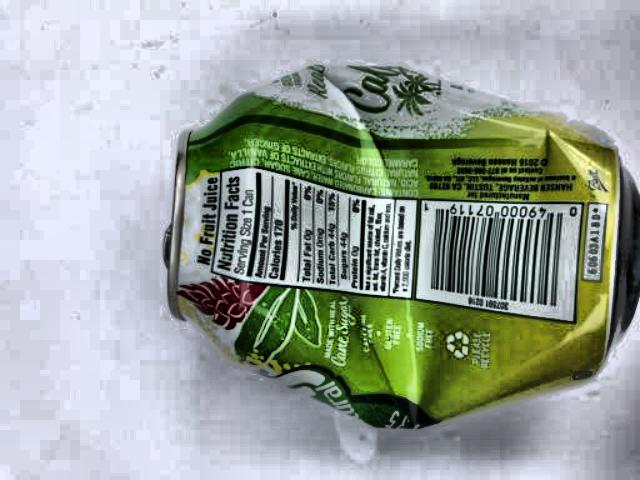Bottles: (158, 52, 640, 448)
